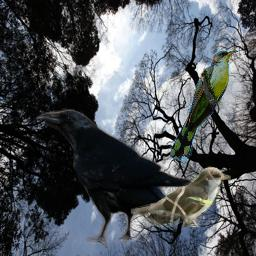Crow: (36, 108, 193, 250)
Cuckoo: (170, 50, 238, 162), (131, 166, 231, 227)
